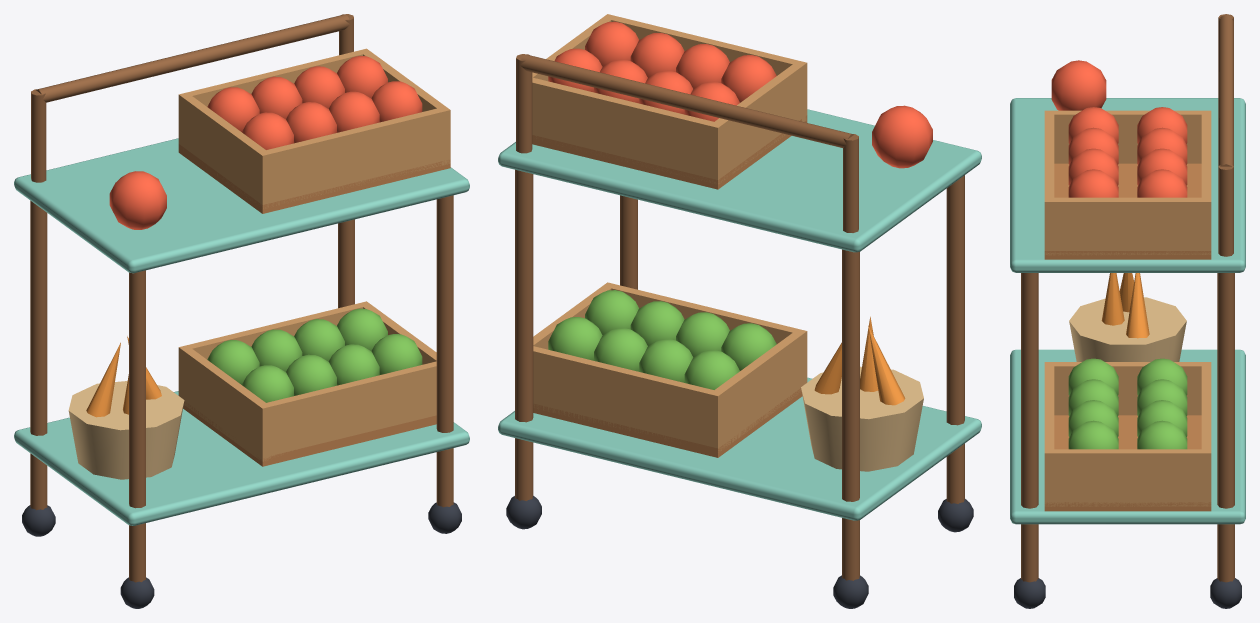
Rendered from cart-produce.glb.
3 views of the same model, side by side, from view 1: azimuth 30°, elevation 25°; view 2: azimuth 150°, elevation 25°; view 3: azimuth 270°, elevation 25° (orthographic). The views are drawn at different scales.
Size of the model in its own units: 0.8 by 0.996 by 0.48.
